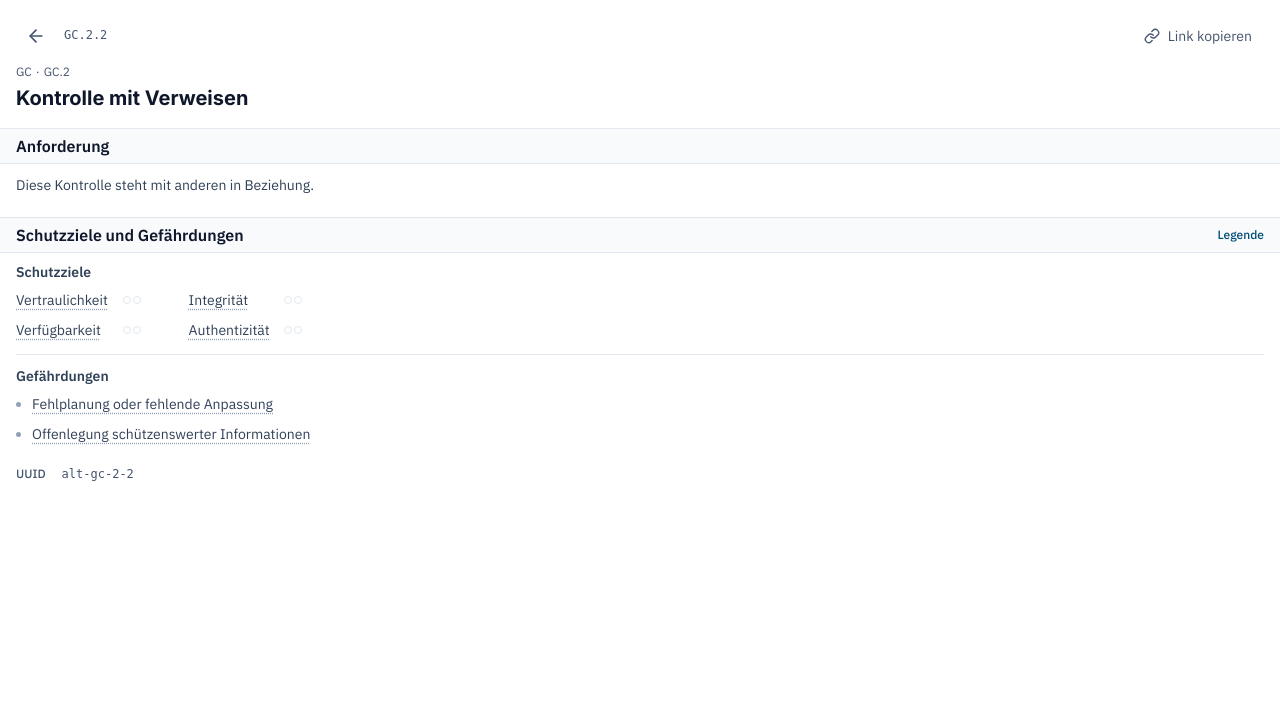
Test case: ControlDetail › renders resolved security targets and threats with independent accessible toggles
The width and height of the screenshot is (1280, 720).
Check: the heading "Schutzziele und Gefährdungen" is shown, box [16,224,244,246]
Check: the text "Integrität" is shown, box [189,289,250,311]
What coordinates should you click on to do the following:
click the button with aria-label "Schutzziel: Vertraulichkeit"
I would click on:
 (63, 300)
Its box is [16,288,111,312].
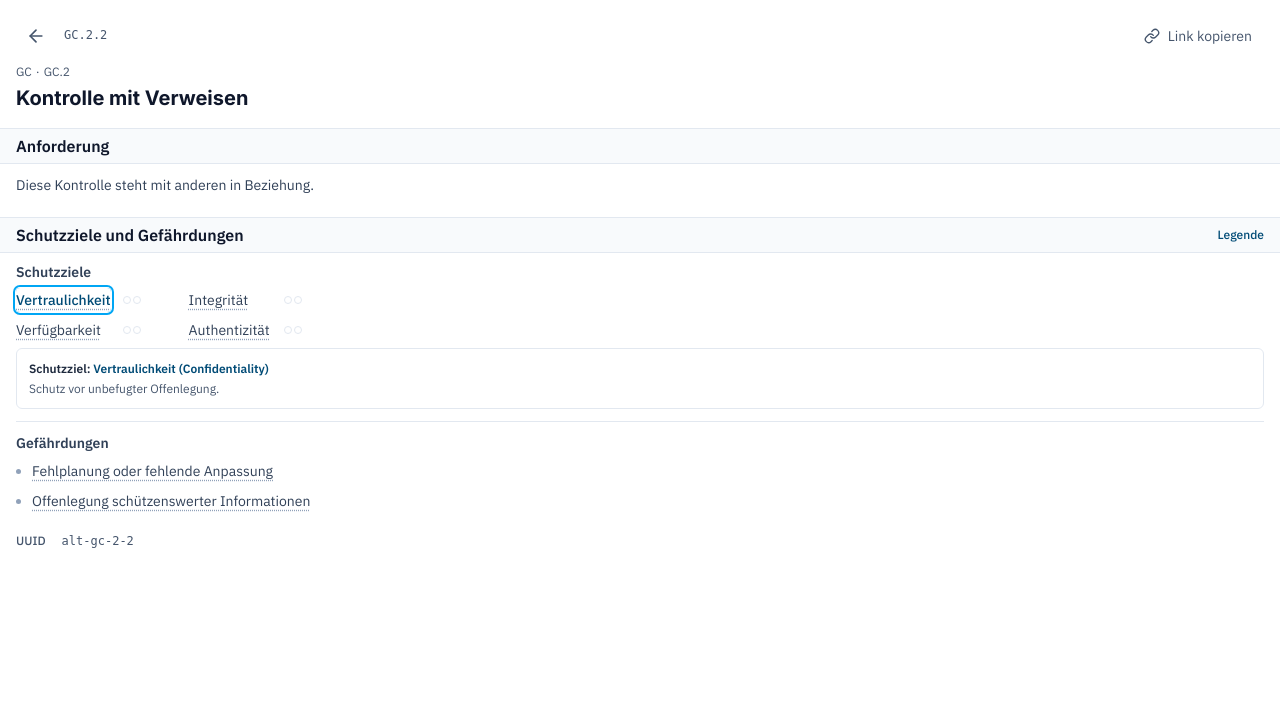
Check: the text "Schutz vor unbefugter Offenlegung." is shown, box [29,380,219,396]
Check: the button with aria-label "Schutzziel: Vertraulichkeit" is expanded, box [16,288,111,312]
What coordinates should you click on to do the following:
click the button "Legende"
I would click on:
 (1241, 235)
Its box is [1218,227,1264,243].
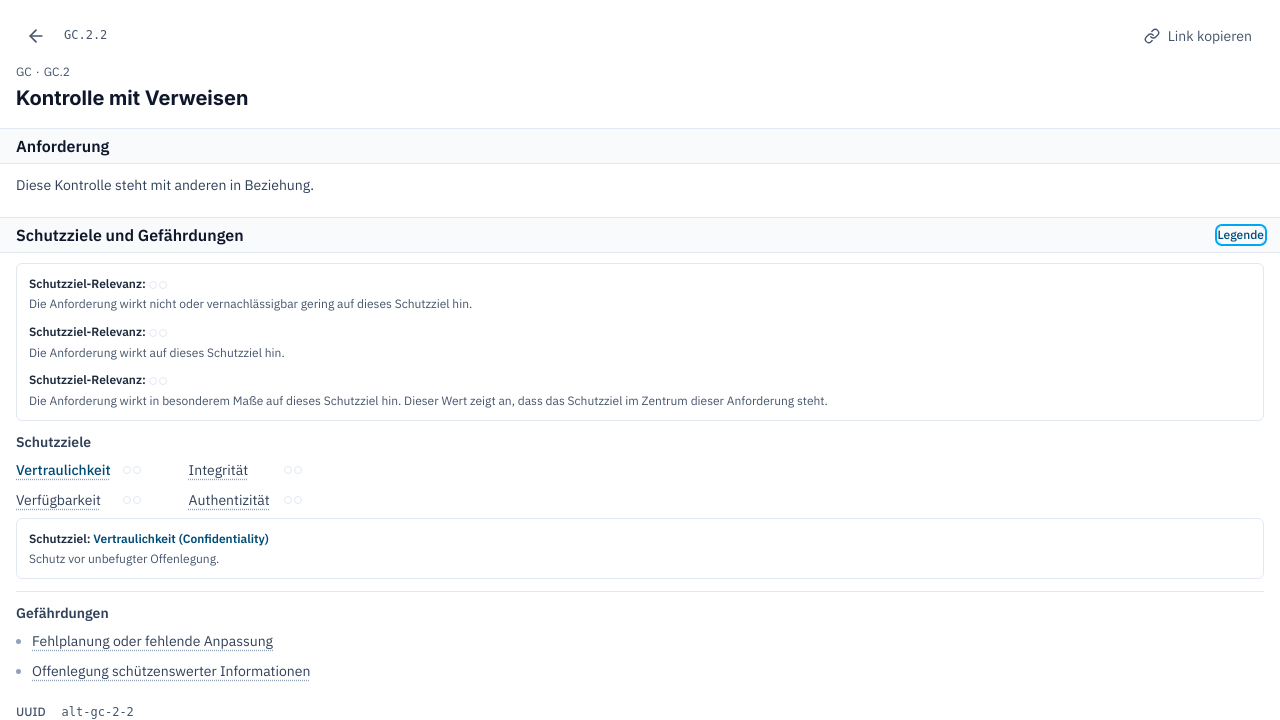
Check: the button with aria-label "Schutzziel: Vertraulichkeit" is expanded, box [16,458,111,482]
Check: the element with id "legende-schutzziele" is shown, box [16,263,1264,421]
Check: the text "Die Anforderung wirkt in besonderem Maße auf dieses Schutzziel hin. Dieser Wert zeigt an, dass das Schutzziel im Zentrum" is shown, box [29,393,828,408]
What coordinates should you click on to do the following:
click the button named "Elementare Gefährdung: Fehlplanung oder fehlende Anpassung (G 0.18)"
I would click on:
 (155, 642)
Its box is [32,630,278,654].
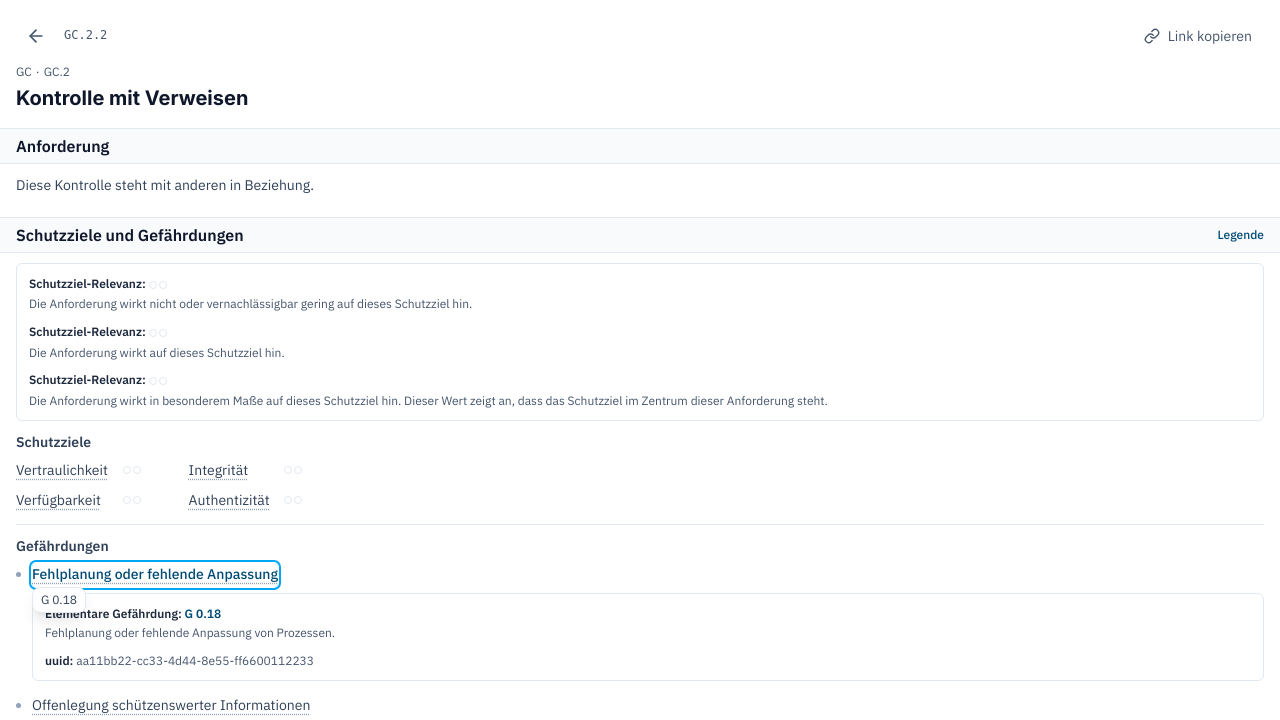
Check: the text "Fehlplanung oder fehlende Anpassung von Prozessen." is shown, box [45,625,335,640]
Check: the button with aria-label "Schutzziel: Vertraulichkeit" is collapsed, box [16,458,111,482]
Check: the button named "Elementare Gefährdung: Fehlplanung oder fehlende Anpassung (G 0.18)" is expanded, box [32,563,278,587]
